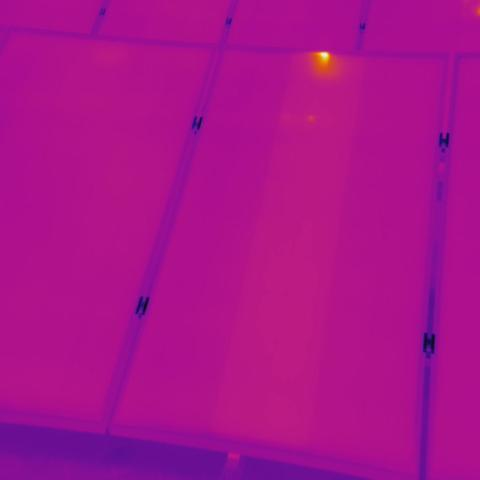fault: (312, 46, 338, 71)
